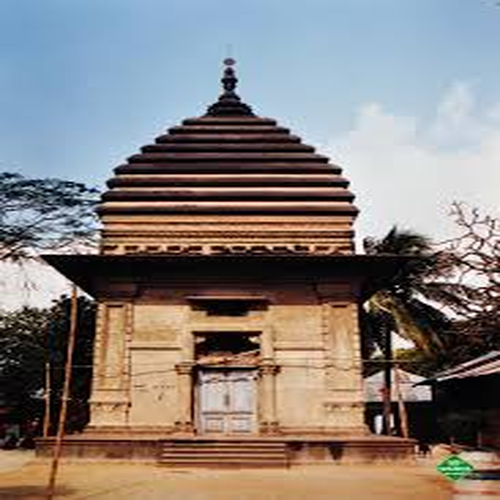Temple: (74, 66, 383, 443)
